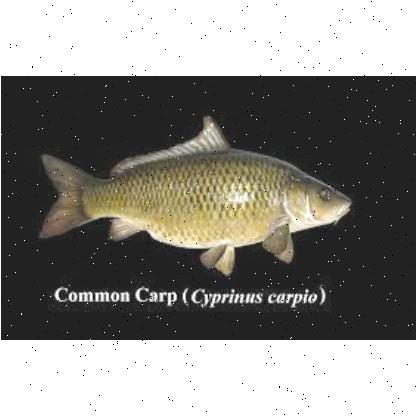ikan-mas: (40, 136, 352, 264)
